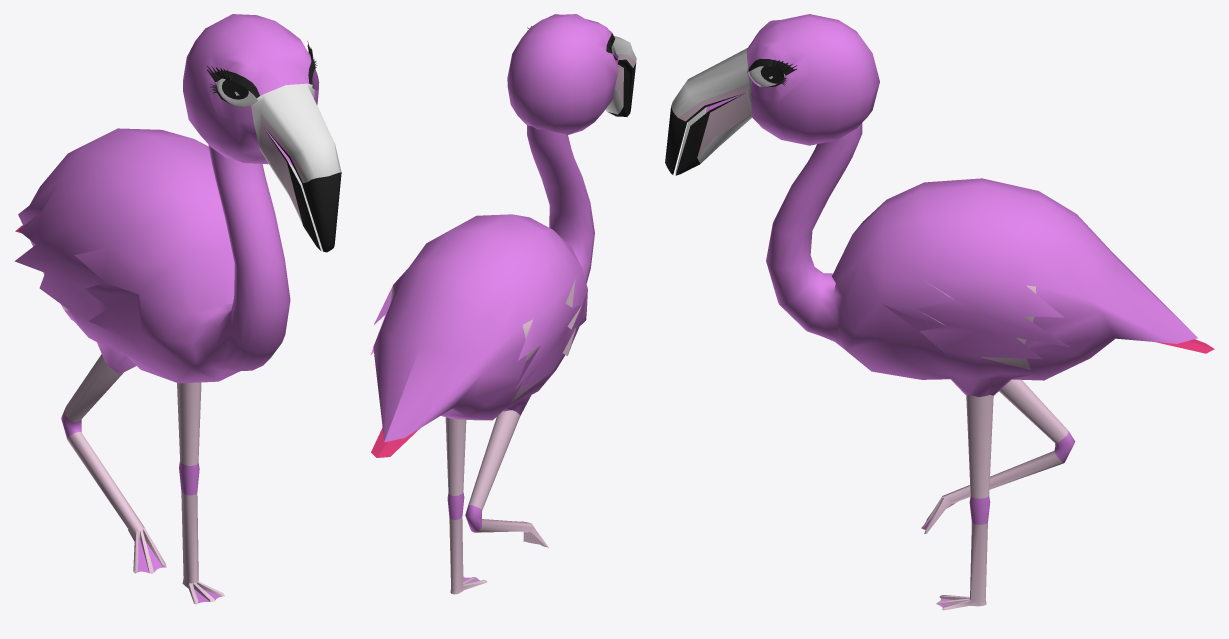
File: rouge.glb
The picture shows the model from 3 angles, left to right: view 1: azimuth 30°, elevation 25°; view 2: azimuth 150°, elevation 25°; view 3: azimuth 270°, elevation 25°; orthographic projection. The views are drawn at different scales.
Parts seen in each view (by area): view 1: body.001; view 2: body.001; view 3: body.001.
Part boxes in pixels (left/top/right/bottom): body.001: left=14, top=14, right=341, bottom=604; body.001: left=370, top=14, right=636, bottom=594; body.001: left=665, top=14, right=1214, bottom=610.
Size of the model in its own units: 0.4618 by 1.51 by 1.31.
